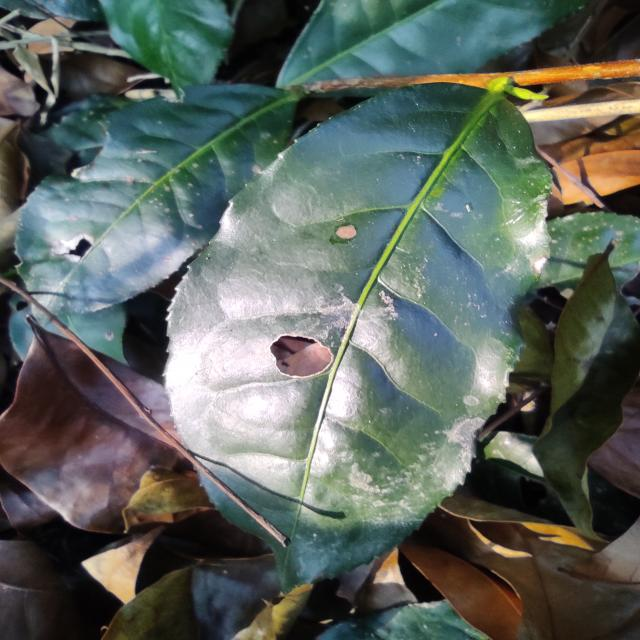Category D(7+ days, Not for Tea): (103, 67, 547, 610)
